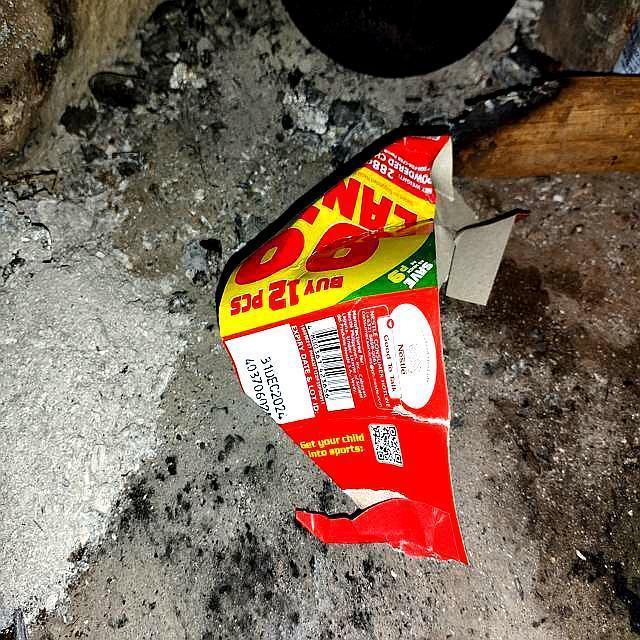Biodegradable: (217, 136, 522, 568)
